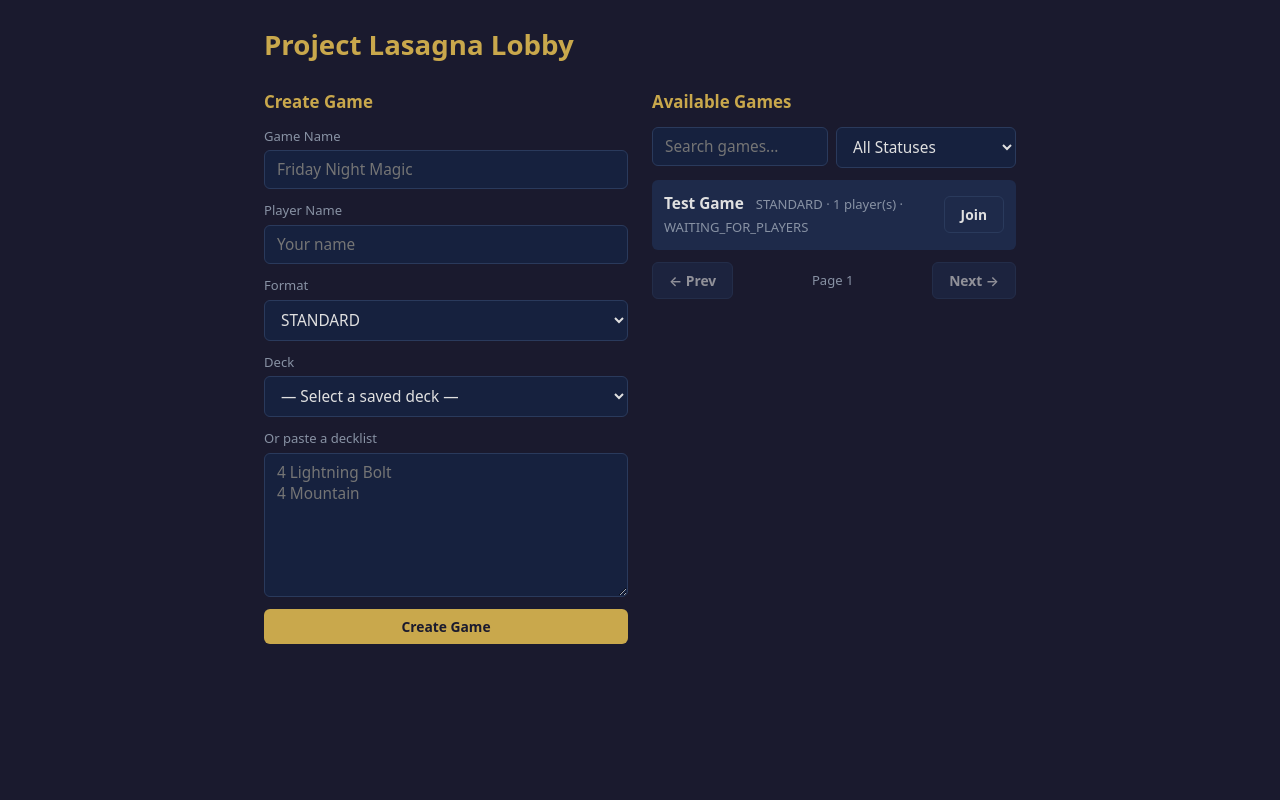
it: LobbyPage › opens JoinGameDialog when Join clicked
Click the button "Join": (974, 215) [944,196,1004,233]
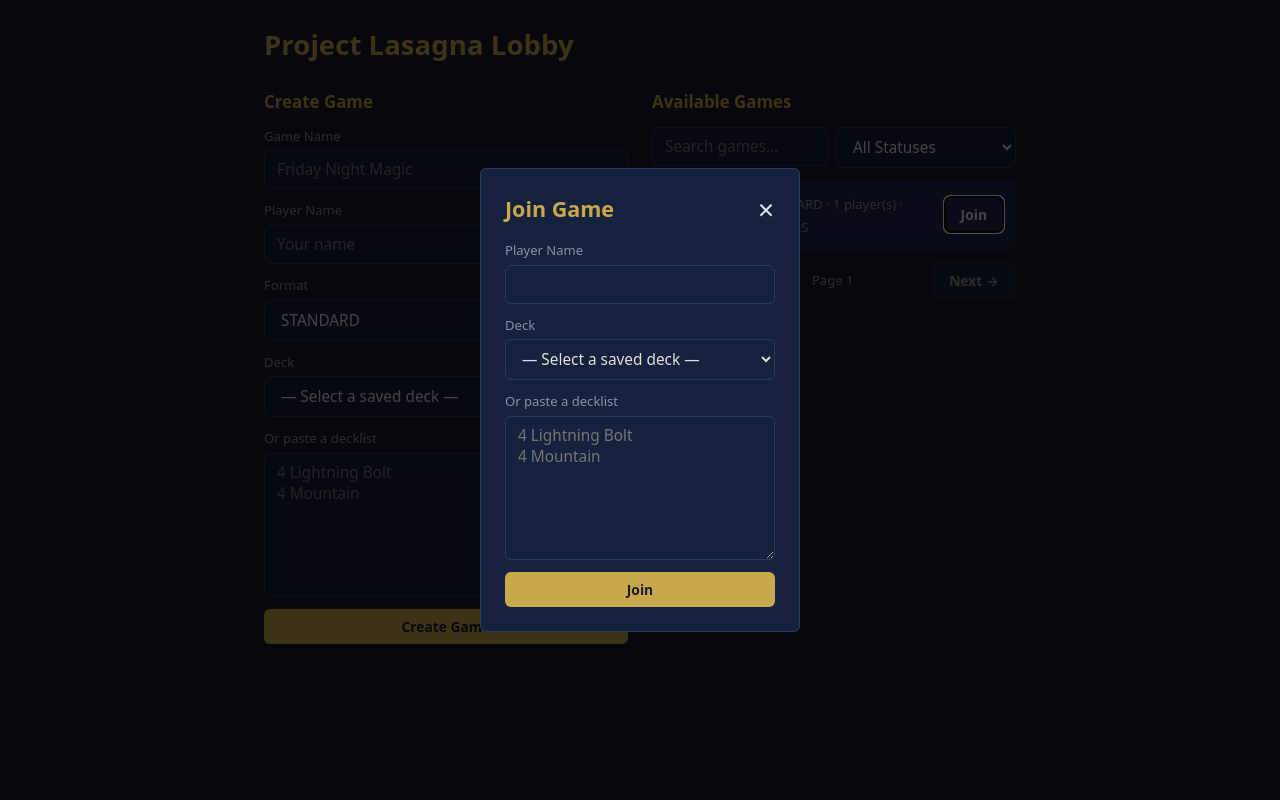
Now the dialog "Join Game ✕ Player Name Deck Or paste a decklist Join" is shown
